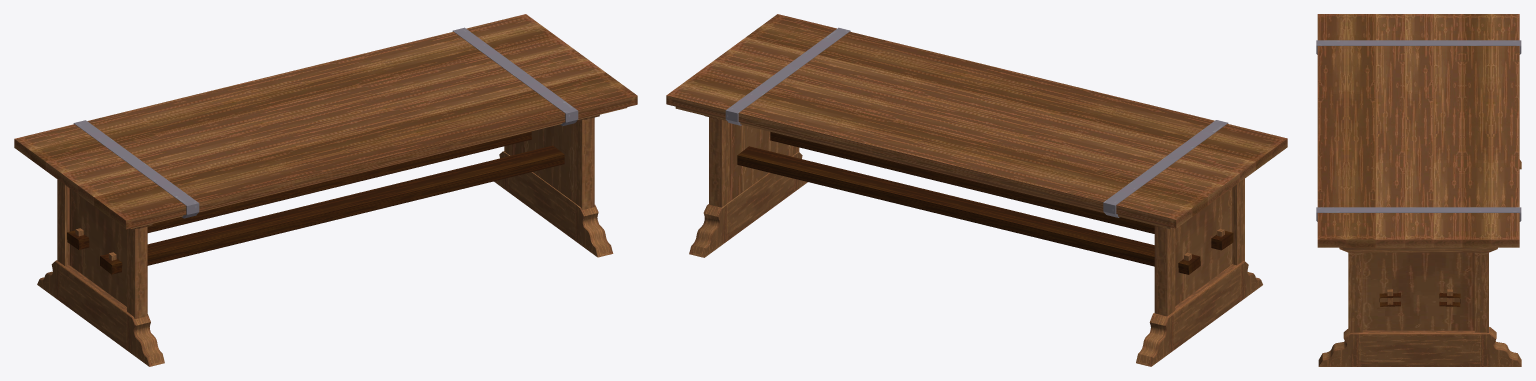
File: Table Large.glb
3 renders of one model, left to right at view 1: azimuth 30°, elevation 25°; view 2: azimuth 150°, elevation 25°; view 3: azimuth 270°, elevation 25°, orthographic. The views are drawn at different scales.
Visible parts, largest first — view 1: Table_Large; view 2: Table_Large; view 3: Table_Large.
Part boxes in pixels (x1,y1,x2,y2): Table_Large: (14,14,637,366); Table_Large: (666,14,1287,366); Table_Large: (1316,14,1521,366).
Size of the model in its own units: 2.85 by 0.8134 by 1.1.
2 materials, 2 textured.
